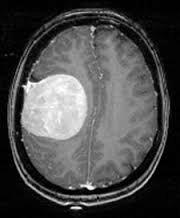Tumour-Meningioma: (22, 65, 96, 152)
